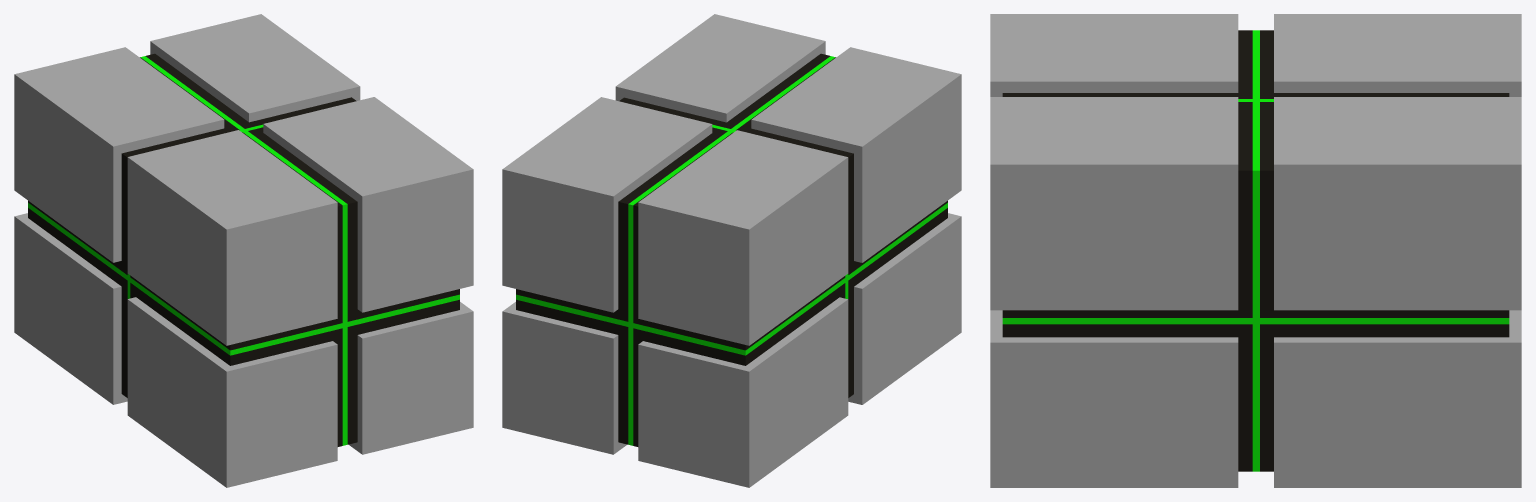
The model's file is Energy_Crate_2x3_Green.fbx.
3 views of the same model, side by side, from view 1: azimuth 30°, elevation 25°; view 2: azimuth 150°, elevation 25°; view 3: azimuth 270°, elevation 25° (orthographic). The views are drawn at different scales.
Visible parts, largest first — view 1: Energy_Crate_2x3_Green; view 2: Energy_Crate_2x3_Green; view 3: Energy_Crate_2x3_Green.
Boxes of the visible parts, bbox=[...] form: Energy_Crate_2x3_Green: bbox=[14, 14, 473, 487]; Energy_Crate_2x3_Green: bbox=[502, 14, 961, 487]; Energy_Crate_2x3_Green: bbox=[990, 14, 1521, 487].
Size of the model in its own units: 200 by 200 by 298.
